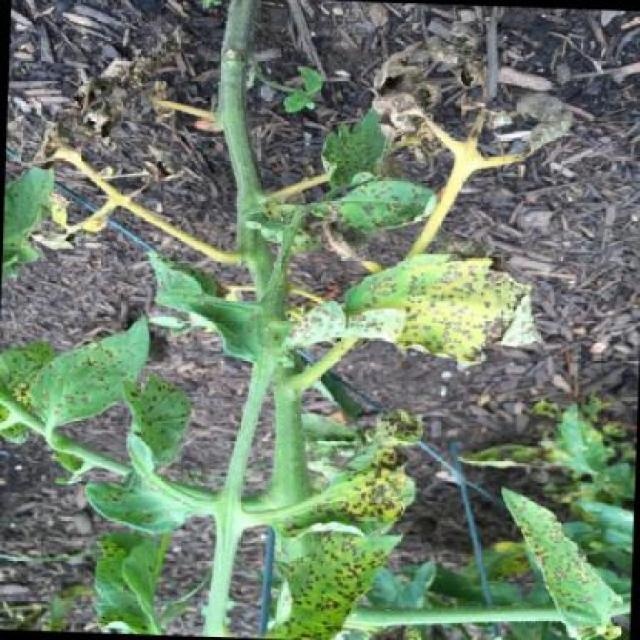Septoria leaf spot: (260, 243, 580, 369), (263, 403, 430, 541), (237, 527, 411, 640), (495, 490, 629, 635), (20, 307, 164, 432), (310, 172, 463, 239), (290, 101, 401, 193), (169, 247, 252, 367), (114, 374, 203, 480)
